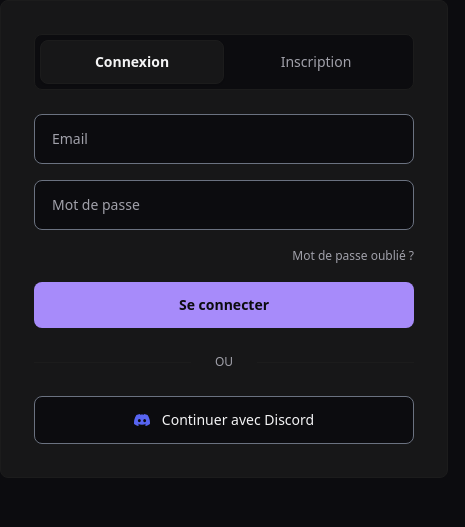
Scenario: AuthPanel › erreurs accessibles (RGAA 3.1 / 7.4 / 11.10) › affiche une alerte liée aux champs sur identifiants invalides (connexion)
Type "joueur@battlemind.gg" into the field with id "login-email" at (224, 139), box [34,114,414,164]
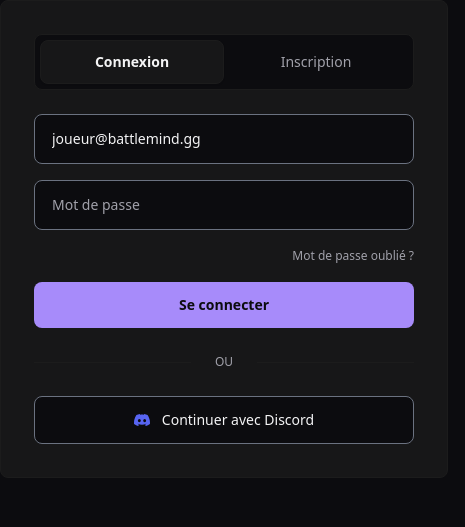
Type "mauvais" into the password field with id "login-password" at (224, 205), box [34,180,414,230]
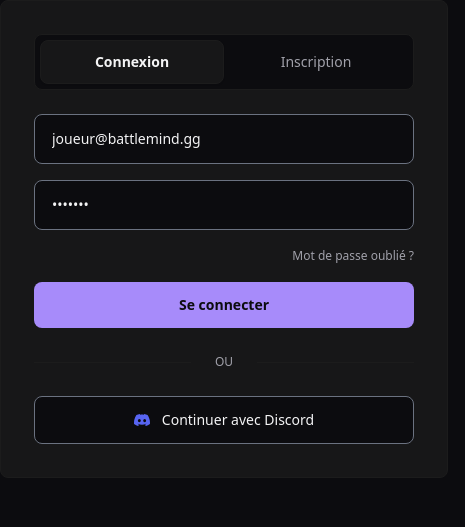
Submit the panel, box [34,114,414,328]
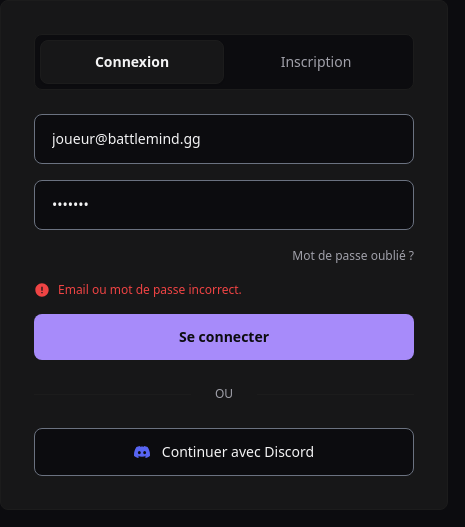
expect the message "Email ou mot de passe incorrect." is shown: met, box [34,281,242,298]
